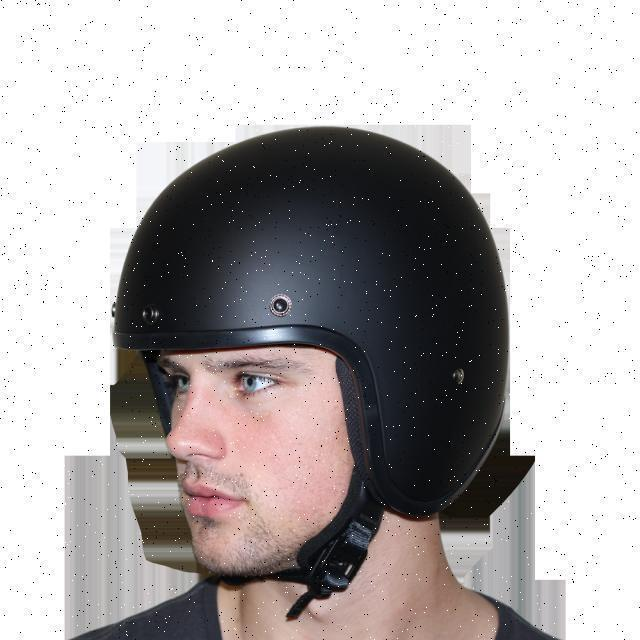helmet: (108, 128, 510, 623)
